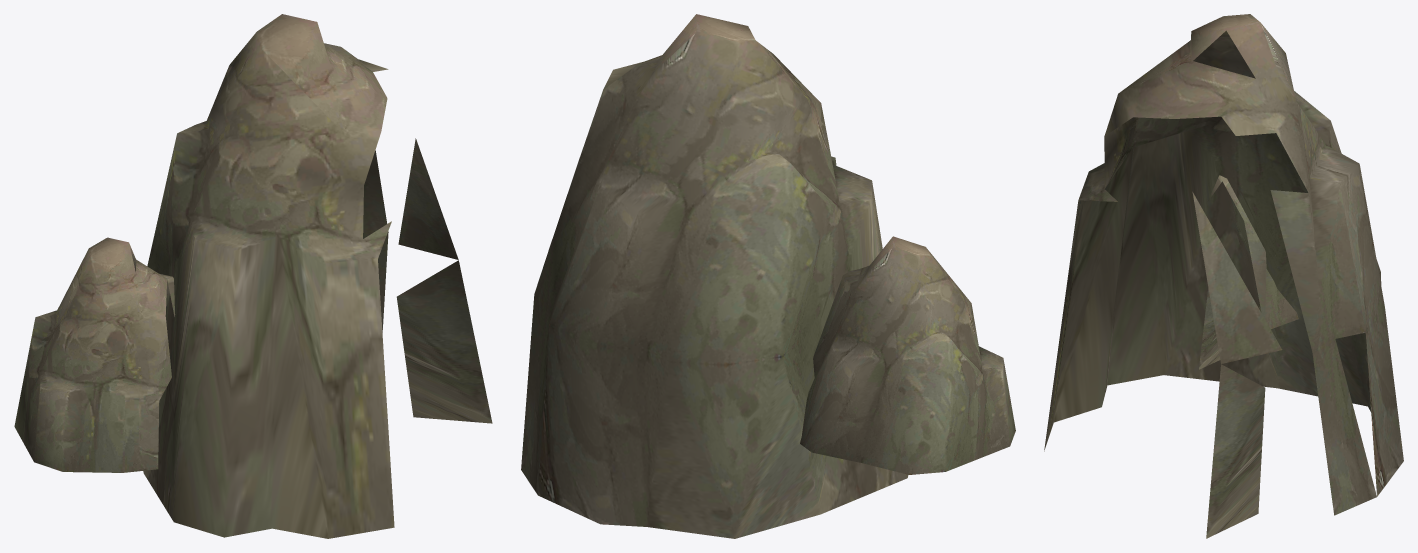
The model's file is shitpi_04.FBX.
3 views of the same model, side by side, from view 1: azimuth 30°, elevation 25°; view 2: azimuth 150°, elevation 25°; view 3: azimuth 270°, elevation 25° (orthographic). The views are drawn at different scales.
Parts seen in each view (by area): view 1: shitpi_04; view 2: shitpi_04; view 3: shitpi_04.
Boxes of the visible parts, bbox=[...] form: shitpi_04: bbox=[14, 14, 492, 538]; shitpi_04: bbox=[521, 14, 1015, 538]; shitpi_04: bbox=[1044, 14, 1403, 538].
Size of the model in its own units: 1.96 by 1.77 by 1.35.
